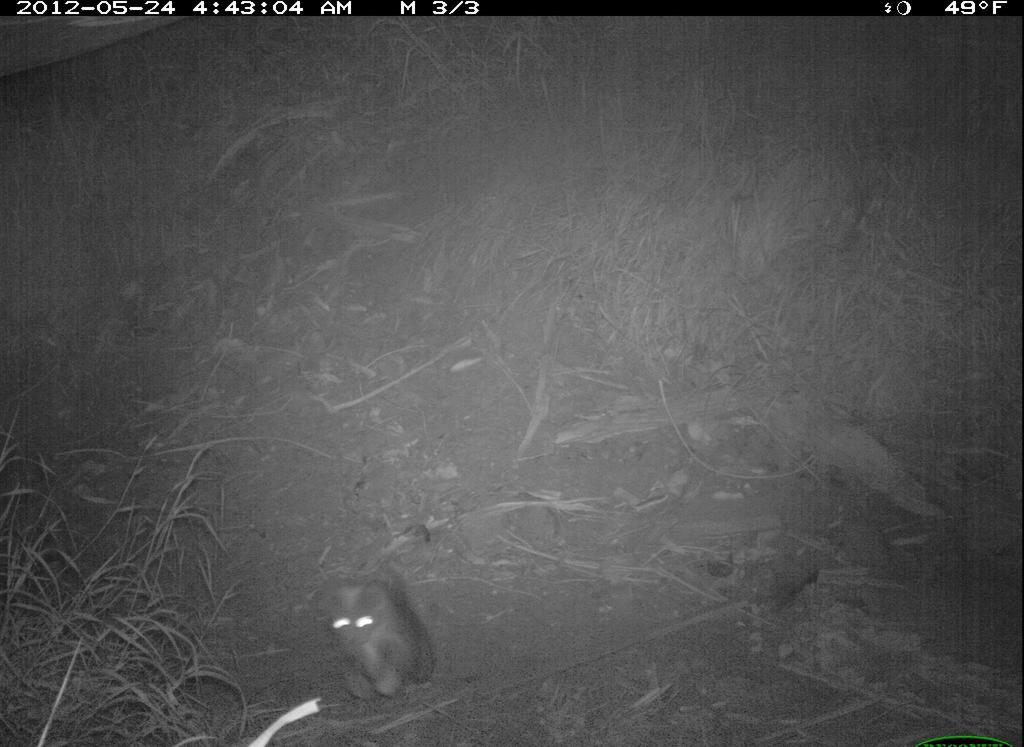cat: (314, 553, 438, 712)
